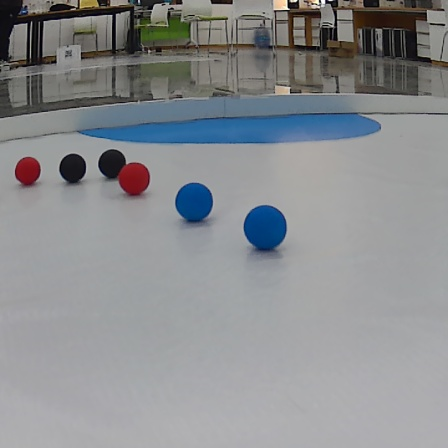black: (56, 152, 89, 183), (97, 150, 126, 180)
blue: (243, 204, 297, 251), (175, 181, 216, 221)
blue_base: (82, 111, 387, 143)
red: (119, 162, 150, 200), (16, 153, 43, 186)
